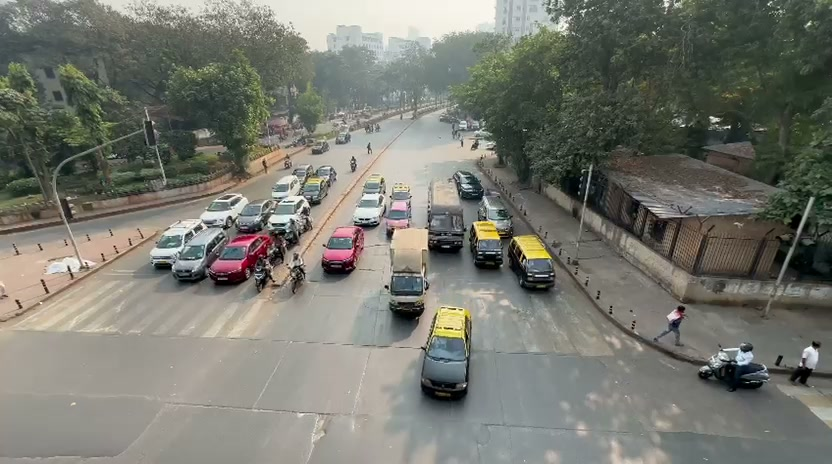car: (420, 306, 471, 400), (208, 232, 283, 285), (171, 226, 228, 283), (508, 235, 556, 290), (149, 222, 204, 269), (321, 225, 365, 274), (387, 272, 428, 317), (264, 203, 311, 241), (200, 193, 249, 229), (351, 193, 386, 228), (383, 196, 412, 238), (235, 202, 267, 233), (452, 170, 483, 200), (300, 175, 329, 205)
motorcycle: (699, 349, 770, 392), (289, 254, 307, 293)
pedestrian: (790, 341, 821, 386), (666, 304, 687, 345), (12, 243, 20, 256)
truck: (387, 227, 430, 317), (427, 180, 466, 252), (508, 234, 557, 291), (427, 206, 466, 252), (469, 220, 504, 268)
